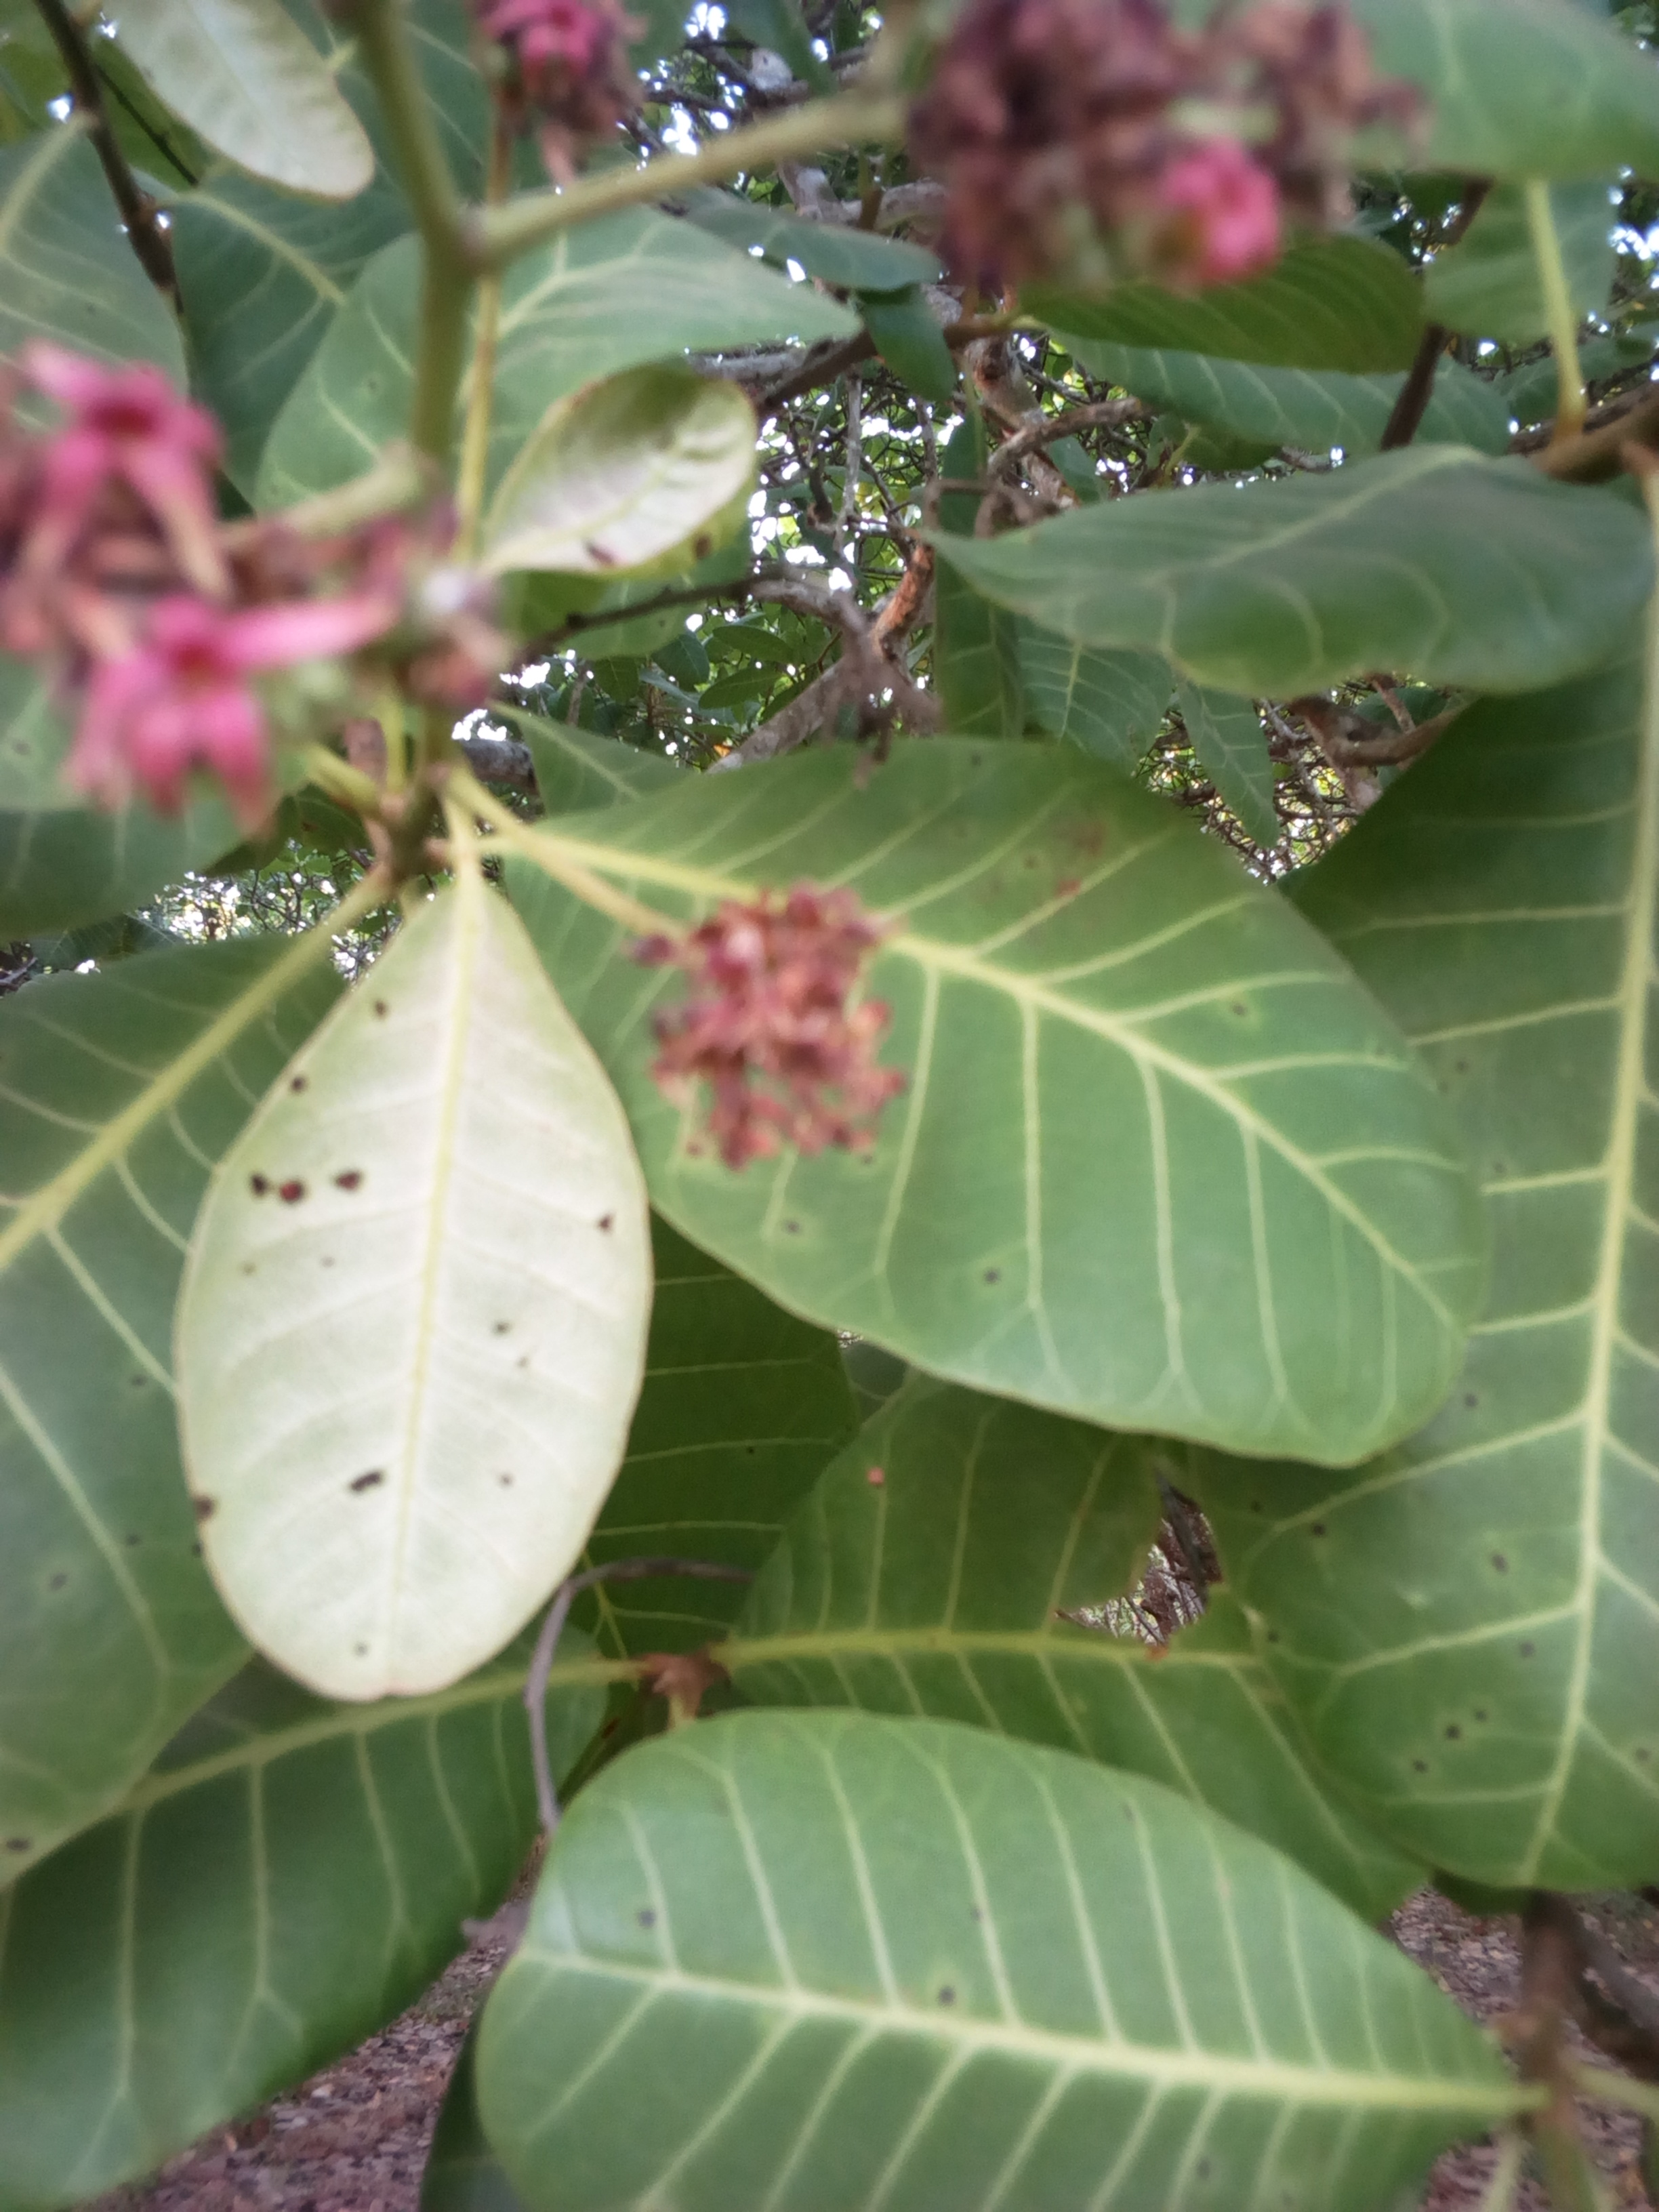Anthracnose: (0, 895, 636, 1743), (1178, 995, 1619, 1879)
